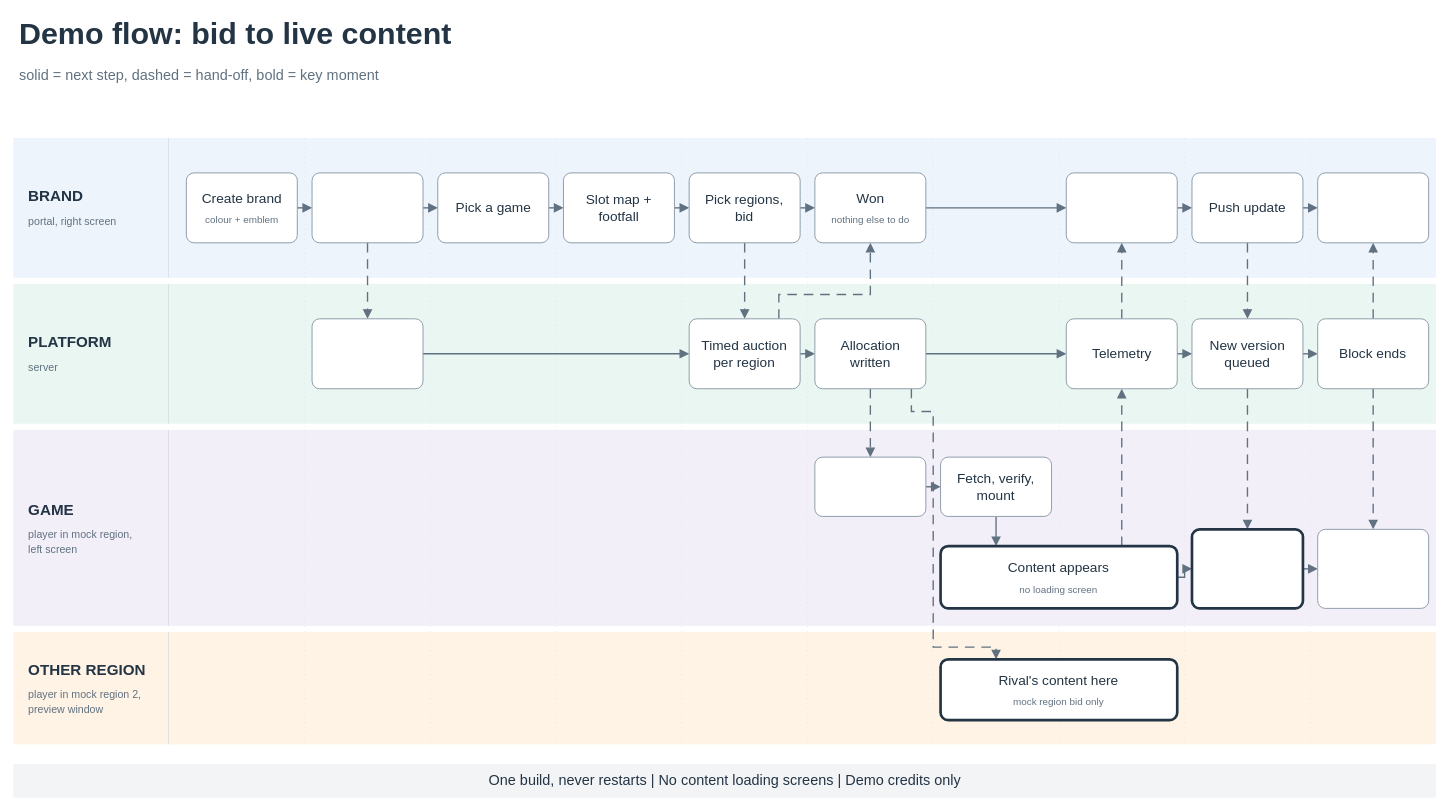
This 1449x810 diagram has some shape labels left out. The shapes that lost their labels are listed below. From the top down, each one's box as (x1, y1, x2, y2) in pixels, then its label:
(311, 172, 423, 243): Upload content
(1065, 172, 1177, 243): Report
(1317, 172, 1429, 243): Summary
(311, 318, 423, 389): Check + sign
(814, 456, 926, 516): Player nears slot
(1190, 528, 1304, 609): Swaps after player exits state kept
(1317, 529, 1429, 608): Next winner swaps in
